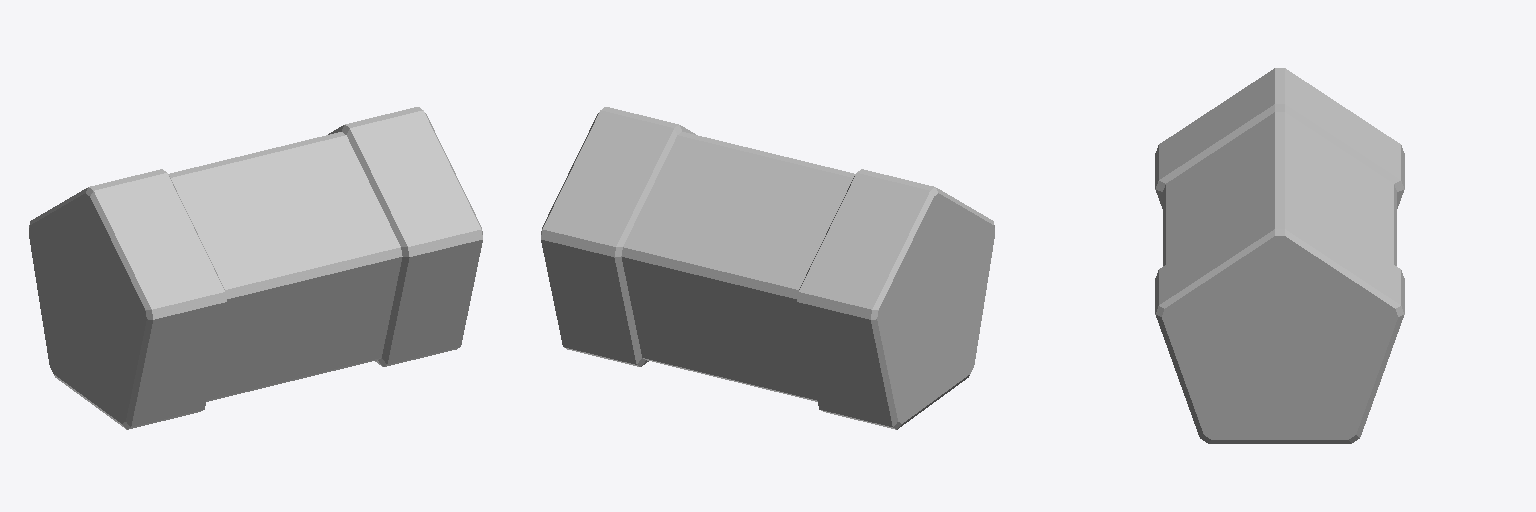
The model's file is oolite_barrel.obj.
The picture shows the model from 3 angles: view 1: azimuth 30°, elevation 25°; view 2: azimuth 150°, elevation 25°; view 3: azimuth 270°, elevation 25°; orthographic projection.
Visible parts, largest first — view 1: barl.obj; view 2: barl.obj; view 3: barl.obj.
Boxes of the visible parts, box(x1,y1,x2,y2) form: barl.obj: box(29, 107, 482, 429); barl.obj: box(541, 107, 994, 429); barl.obj: box(1155, 68, 1404, 443).
Size of the model in its own units: 9.56 by 5.83 by 6.13.